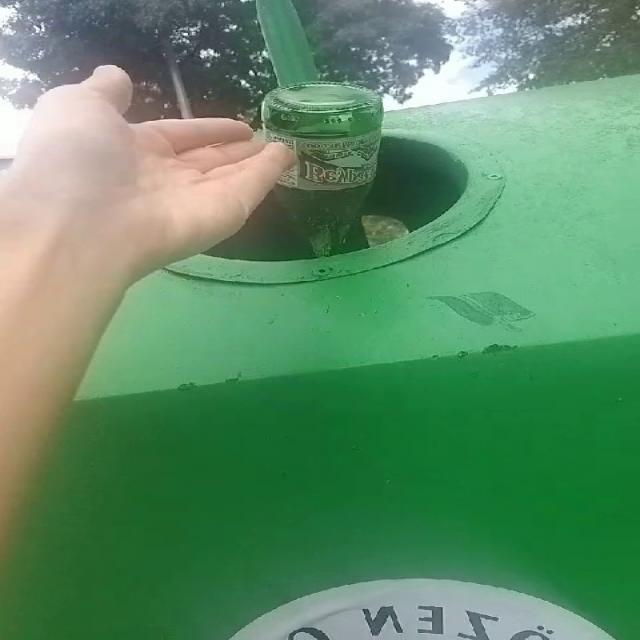glass: (261, 81, 383, 256)
